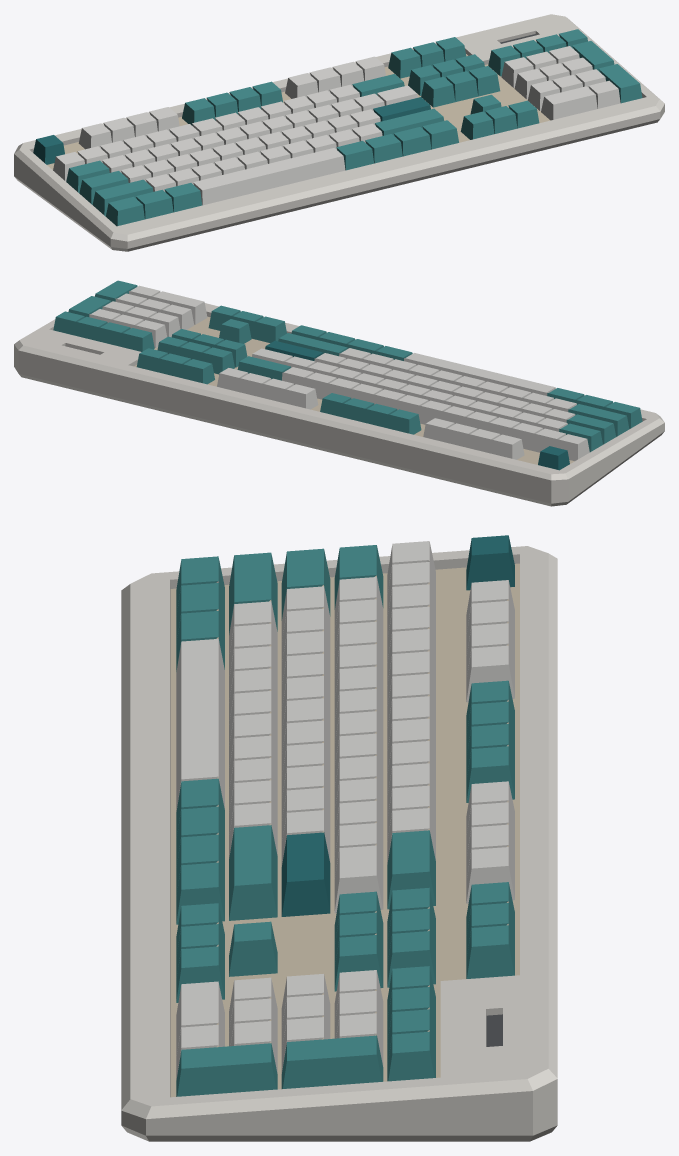
File: keyboard.glb
3 renders of one model, top to bottom at view 1: azimuth 30°, elevation 25°; view 2: azimuth 150°, elevation 25°; view 3: azimuth 270°, elevation 25°, orthographic. The views are drawn at different scales.
Parts seen in each view (by area): view 1: keyboard-body; view 2: keyboard-body; view 3: keyboard-body.
Boxes of the visible parts, left/top/right/bottom form: keyboard-body: left=14, top=14, right=664, bottom=251; keyboard-body: left=14, top=280, right=664, bottom=506; keyboard-body: left=121, top=535, right=557, bottom=1141.
Size of the model in its own units: 0.44 by 0.0317 by 0.1501.
